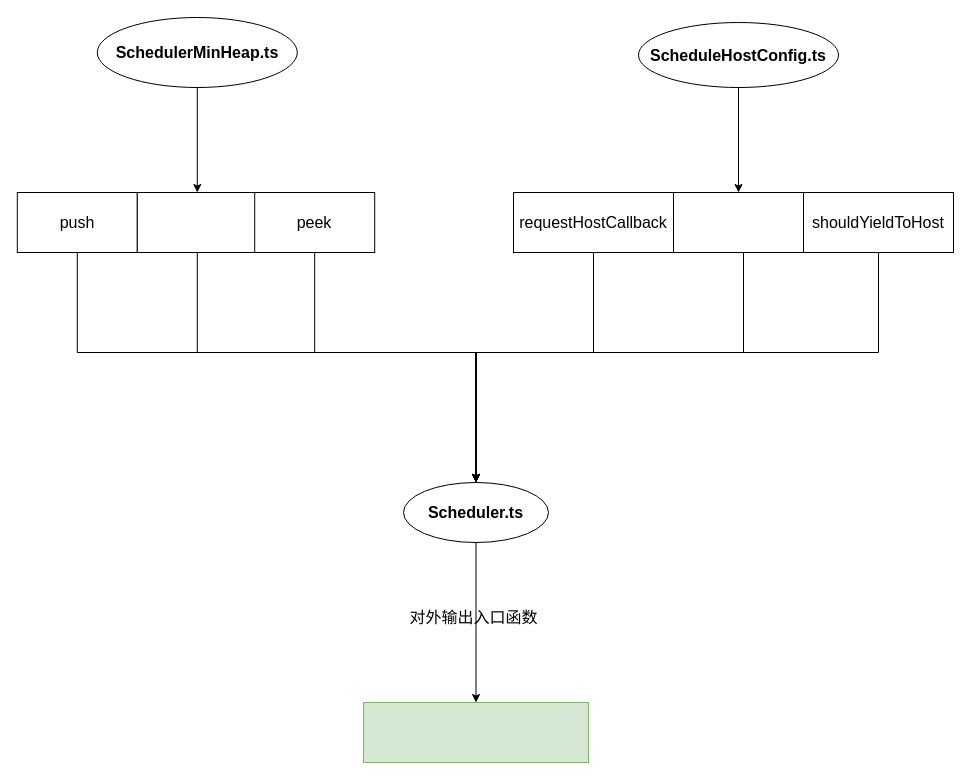
This 972x780 diagram has some shape labels left out. The shapes that lost their labels are listed below. From the top down, each one's centre as x and y in pixels, then its label:
the point at 196,222: pop
the point at 738,222: getCurrentTime
the point at 475,732: unstable_scheduleCallback
